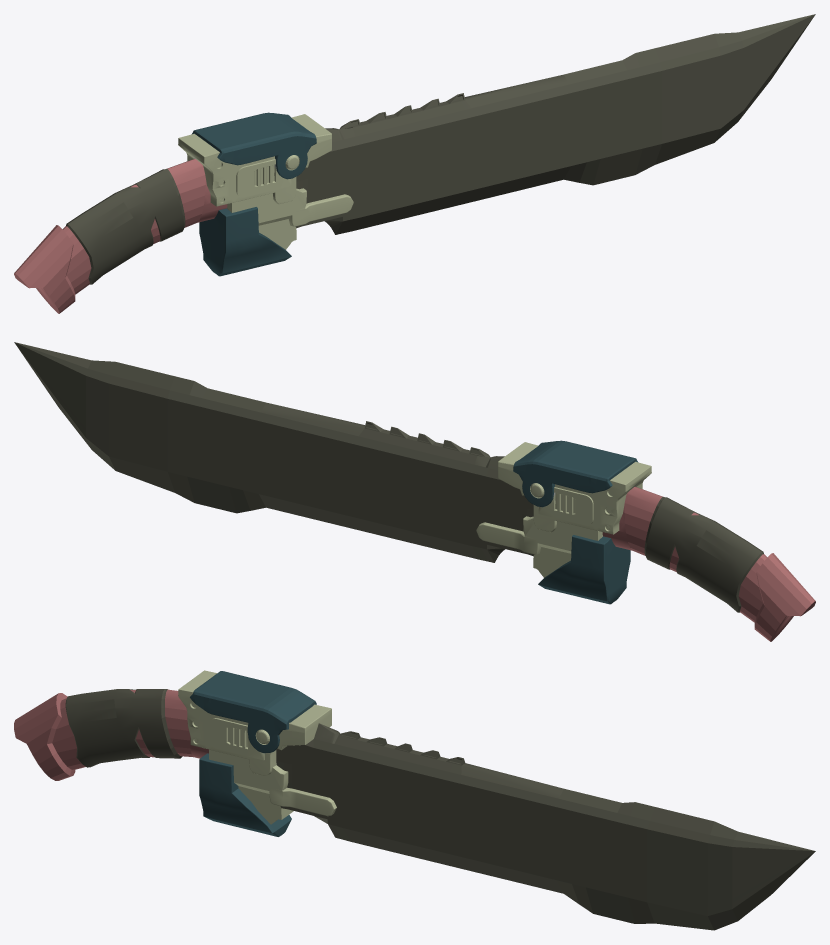
The model's file is sword_export_to_substance.fbx.
3 views of the same model, one above another, from view 1: azimuth 30°, elevation 25°; view 2: azimuth 150°, elevation 25°; view 3: azimuth 330°, elevation 25° (orthographic).
Parts seen in each view (by area): view 1: pCylinder5; view 2: pCylinder5; view 3: pCylinder5.
Part boxes in pixels (x1,y1,x2,y2): pCylinder5: (14,14,815,313); pCylinder5: (14,342,815,641); pCylinder5: (14,670,815,930).
Size of the model in its own units: 9.77 by 1.63 by 0.6802.
